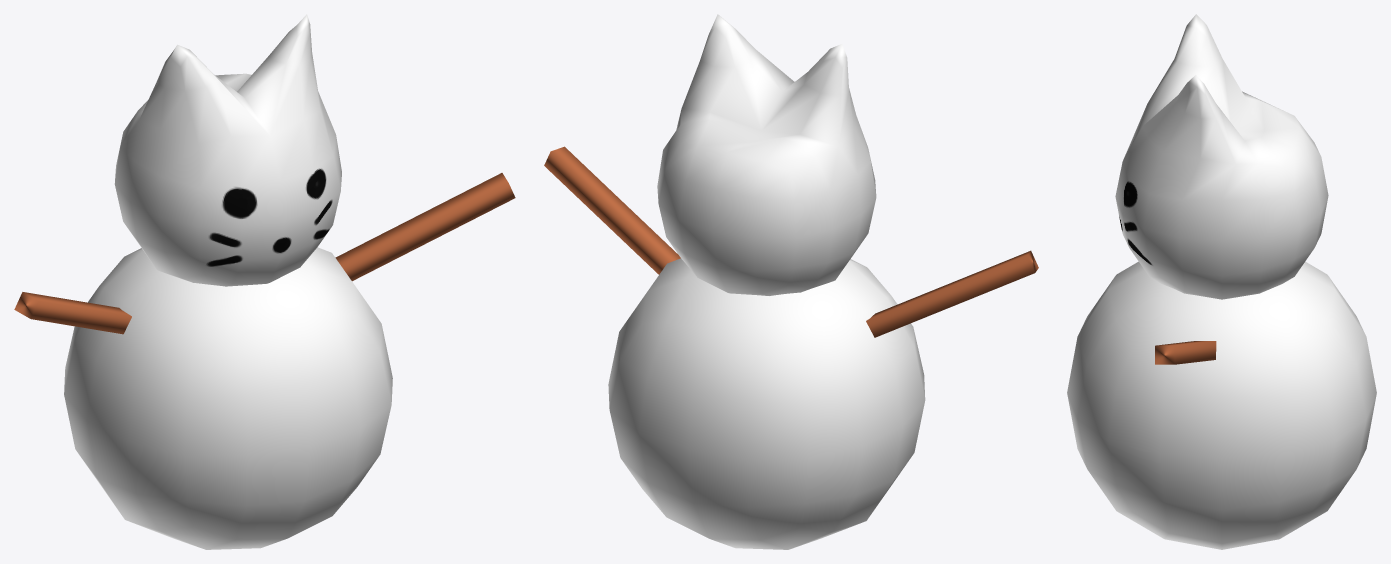
File: yukidarumatuku-ro-.fbx
3 renders of one model, left to right at view 1: azimuth 30°, elevation 25°; view 2: azimuth 150°, elevation 25°; view 3: azimuth 270°, elevation 25°, orthographic. The views are drawn at different scales.
Visible parts, largest first — view 1: pasted__pCube1, pCube1, pasted__pCube2, pCube2; view 2: pasted__pCube1, pCube1, pasted__pCube2, pCube2; view 3: pasted__pCube1, pCube1, pasted__pCube2.
Part boxes in pixels (<box>): pasted__pCube1: <box>64,247,392,549</box>; pCube1: <box>114,14,341,286</box>; pasted__pCube2: <box>335,173,515,281</box>; pCube2: <box>14,292,131,334</box>; pasted__pCube1: <box>608,258,925,549</box>; pCube1: <box>657,14,876,295</box>; pasted__pCube2: <box>544,146,680,274</box>; pCube2: <box>866,250,1038,337</box>; pasted__pCube1: <box>1067,261,1376,549</box>; pCube1: <box>1115,14,1328,299</box>; pasted__pCube2: <box>1155,341,1216,364</box>.
Bounding box in the file's own units: 4.18 × 4.1 × 2.35.
1 material, 1 textured.
